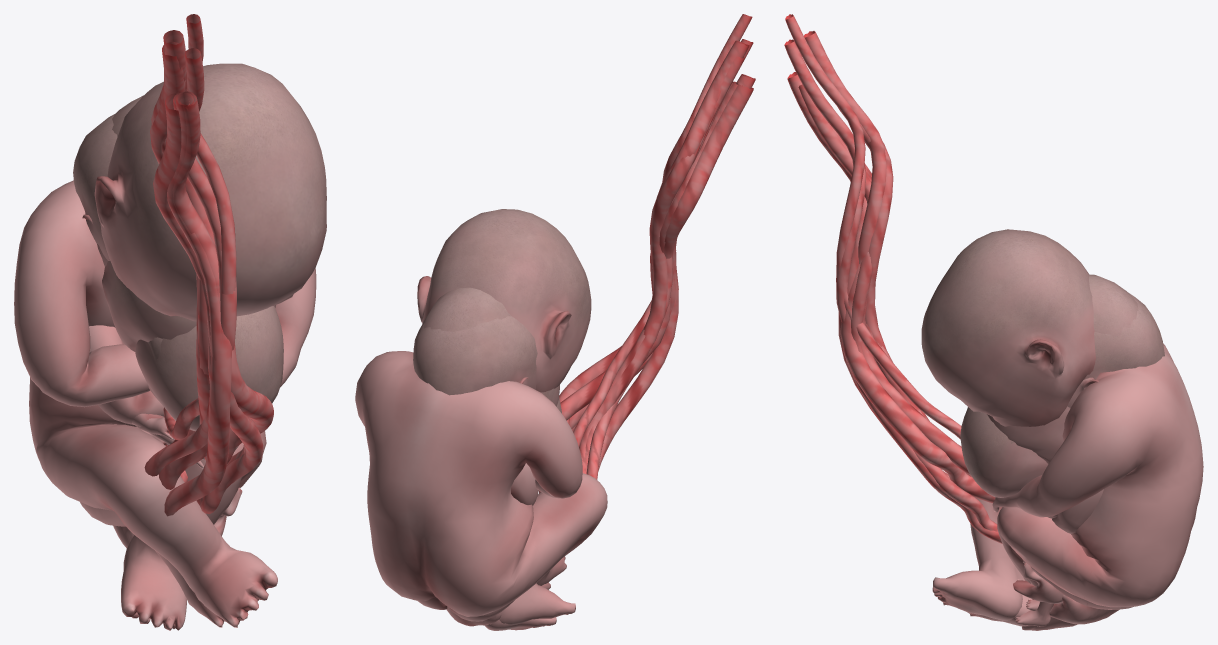
File: Fetos.fbx
3 renders of one model, left to right at view 1: azimuth 30°, elevation 25°; view 2: azimuth 150°, elevation 25°; view 3: azimuth 270°, elevation 25°, orthographic. The views are drawn at different scales.
Parts seen in each view (by area): view 1: feto_9, feto_5, feto_8, feto_7, feto_6, feto_4, feto_1; view 2: feto_9, feto_7, feto_8, feto_6, feto_1, feto_5, feto_2; view 3: feto_9, feto_8, feto_5, feto_7, feto_1, feto_6, feto_3, feto_4, feto_2.
Boxes of the visible parts, box(x1,y1,x2,y2) form: feto_9: box(14, 14, 326, 630); feto_5: box(113, 91, 283, 548); feto_8: box(80, 48, 236, 629); feto_7: box(73, 30, 215, 489); feto_6: box(102, 41, 275, 469); feto_4: box(148, 92, 263, 535); feto_1: box(153, 92, 273, 463); feto_9: box(355, 14, 752, 625); feto_7: box(413, 40, 749, 472); feto_8: box(417, 39, 753, 630); feto_6: box(541, 56, 744, 474); feto_1: box(559, 82, 753, 424); feto_5: box(446, 74, 754, 626); feto_2: box(560, 81, 737, 420); feto_9: box(785, 14, 1203, 620); feto_8: box(784, 39, 1138, 630); feto_5: box(787, 72, 1119, 624); feto_7: box(804, 31, 1164, 626); feto_1: box(840, 164, 995, 503); feto_6: box(838, 107, 1070, 612); feto_3: box(798, 86, 997, 531); feto_4: box(788, 72, 1063, 603); feto_2: box(799, 84, 971, 476).
Size of the model in its own units: 3318 by 7195 by 4840.
